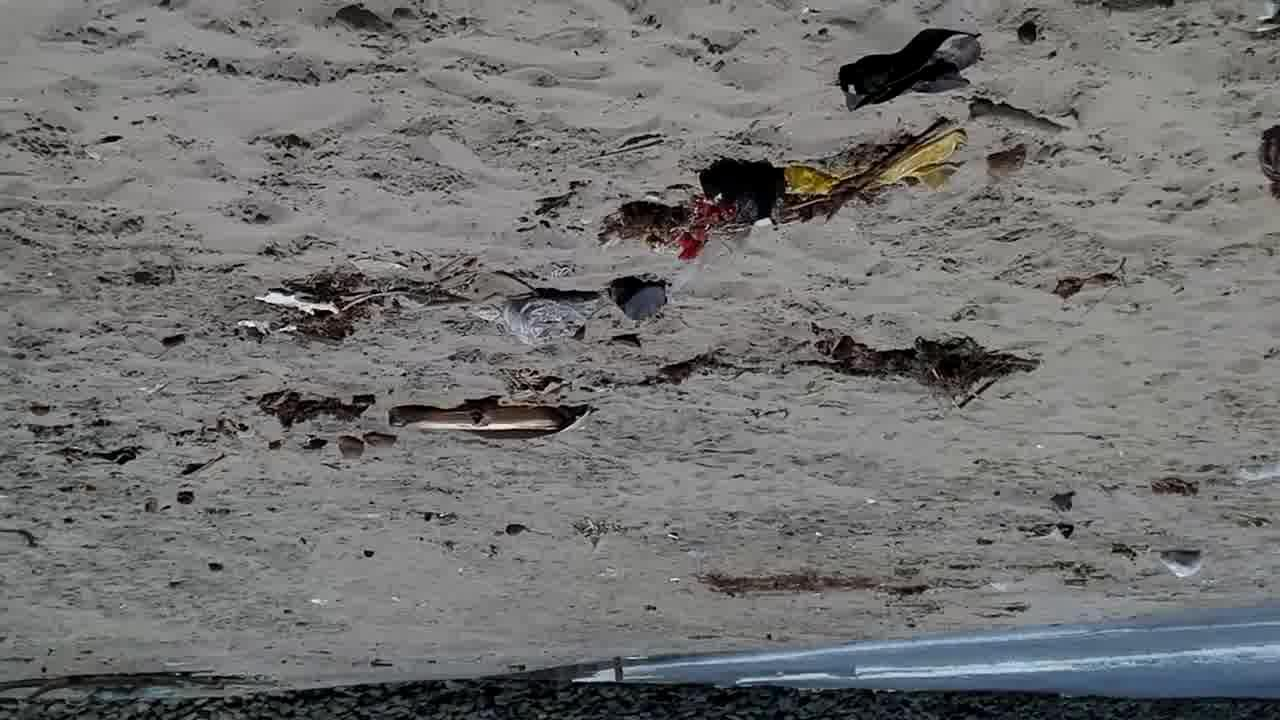obj: (830, 335, 1040, 404), (828, 114, 958, 220), (262, 273, 470, 338), (845, 26, 980, 112), (496, 286, 604, 348), (390, 405, 592, 433), (703, 162, 786, 229), (703, 568, 876, 598), (884, 132, 964, 190), (604, 199, 692, 251), (966, 94, 1070, 134), (673, 201, 737, 261), (267, 396, 374, 429), (258, 288, 338, 314), (982, 142, 1034, 176), (787, 168, 838, 195)
sand/background: (1, 574, 1279, 719)
